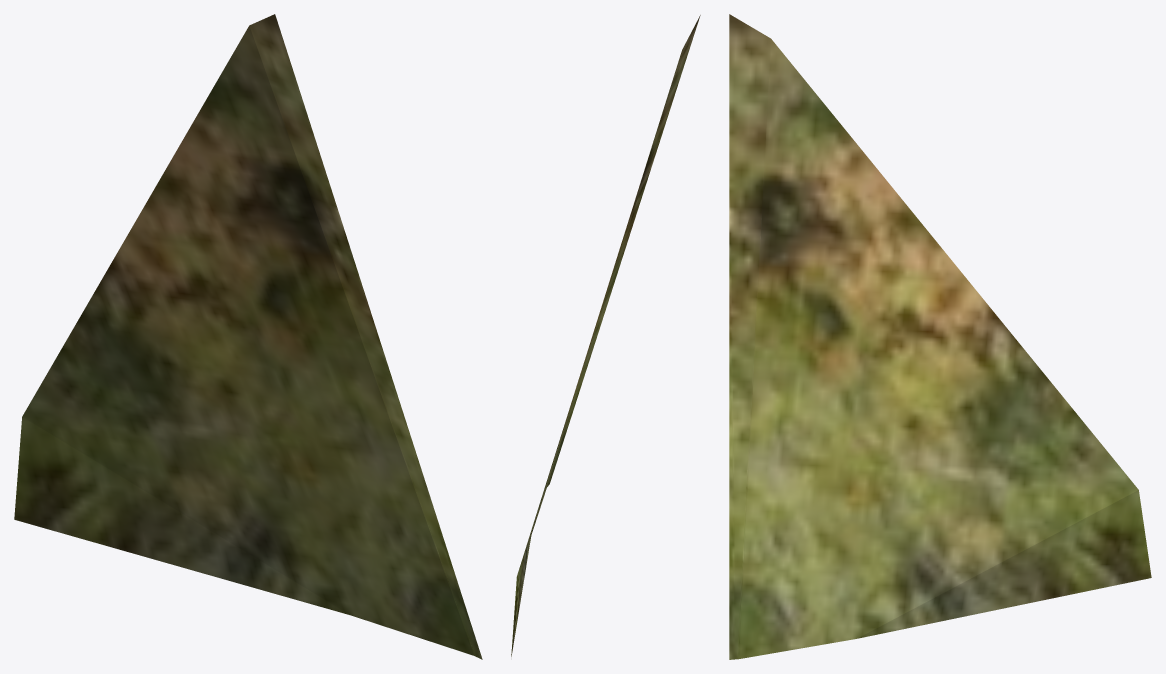
The picture shows the model from 3 angles, left to right: view 1: azimuth 30°, elevation 25°; view 2: azimuth 150°, elevation 25°; view 3: azimuth 270°, elevation 25°; orthographic projection. The views are drawn at different scales.
Bounding box in the file's own units: 0.8598 × 2.76 × 1.87.
1 material, 1 textured.
